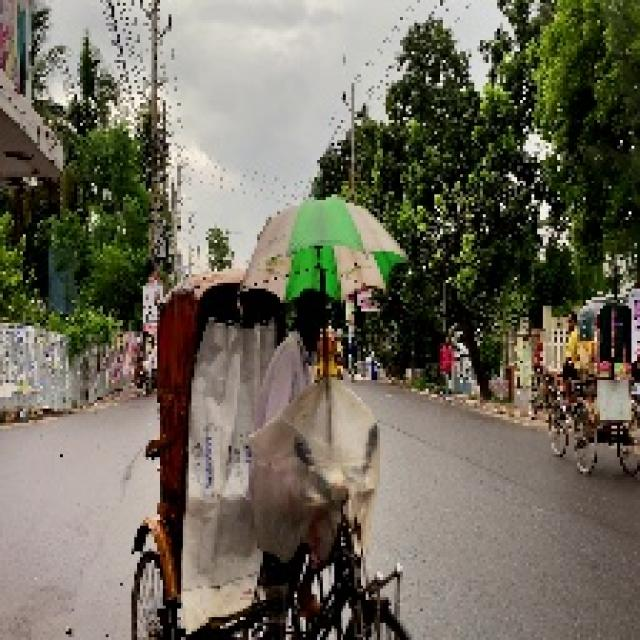rickshaw: (121, 214, 437, 633), (546, 276, 635, 484)
